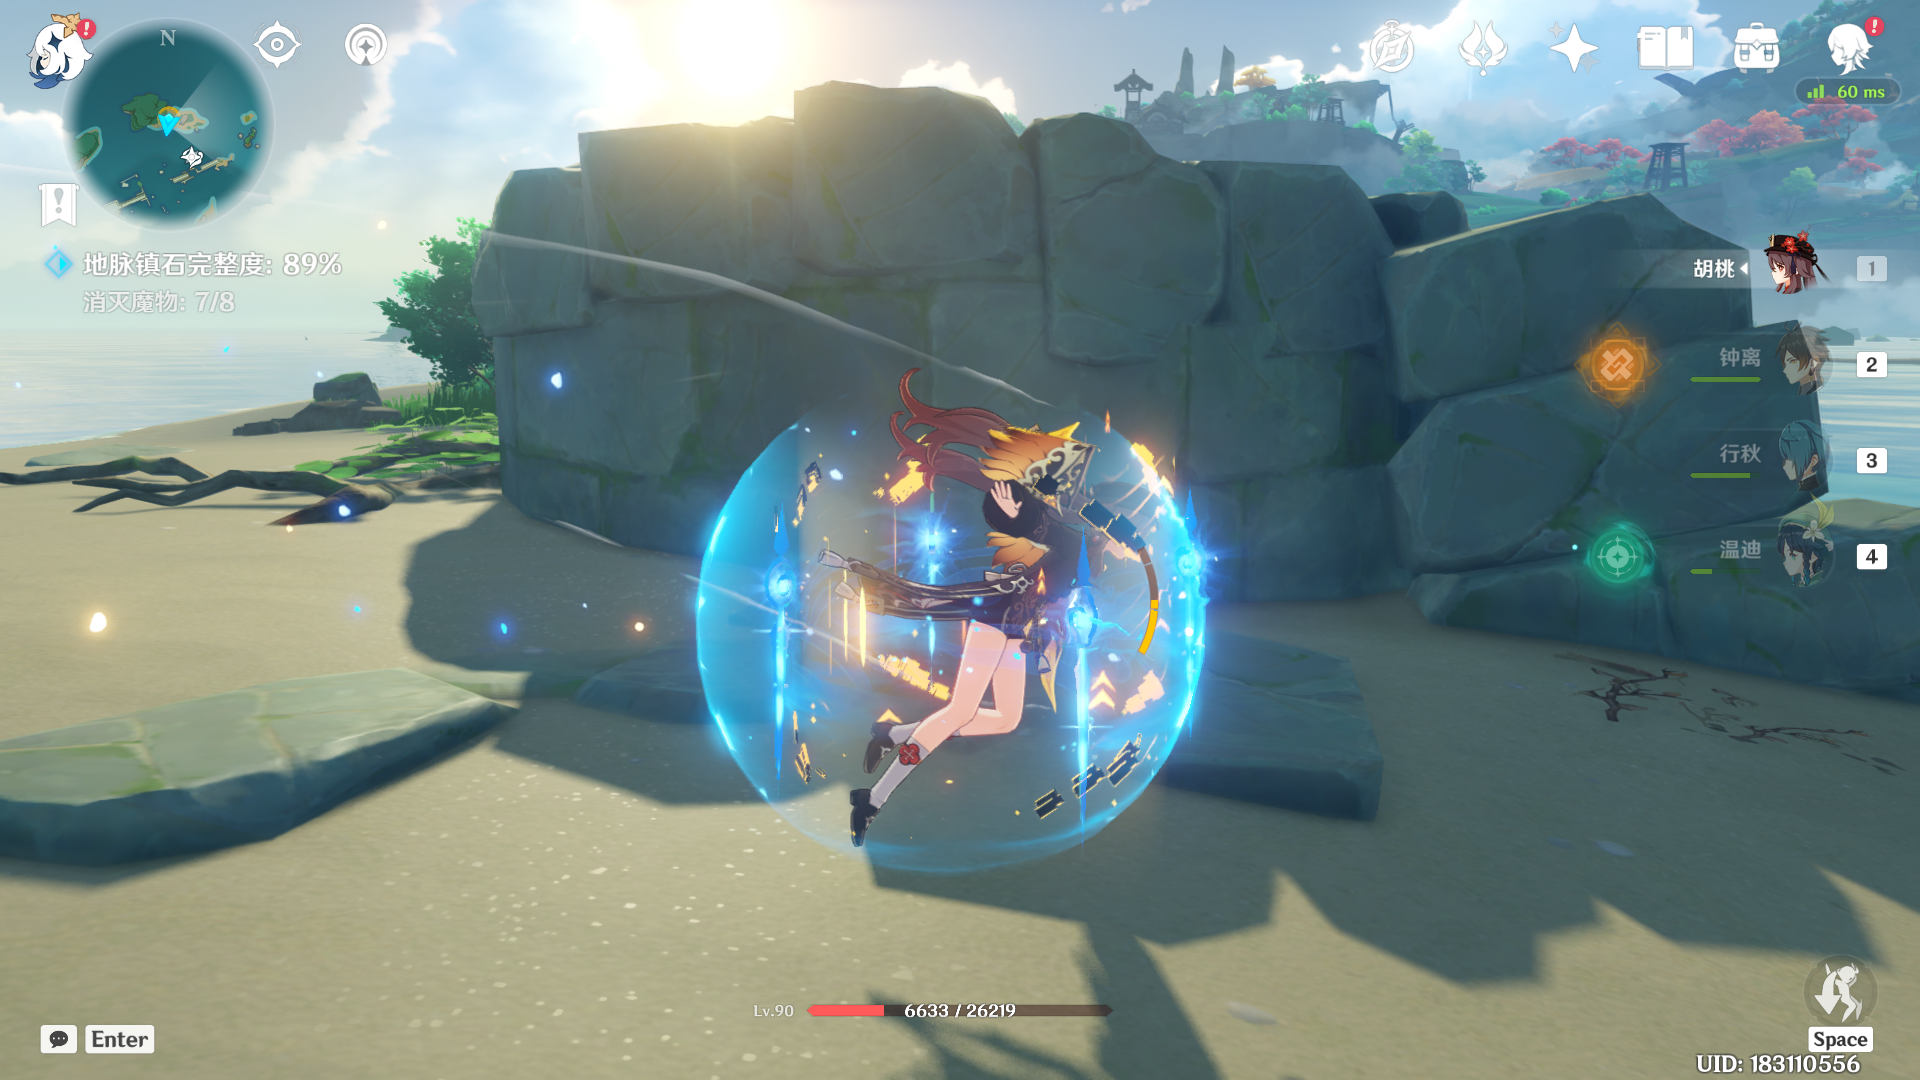character: (766, 386, 1185, 916)
